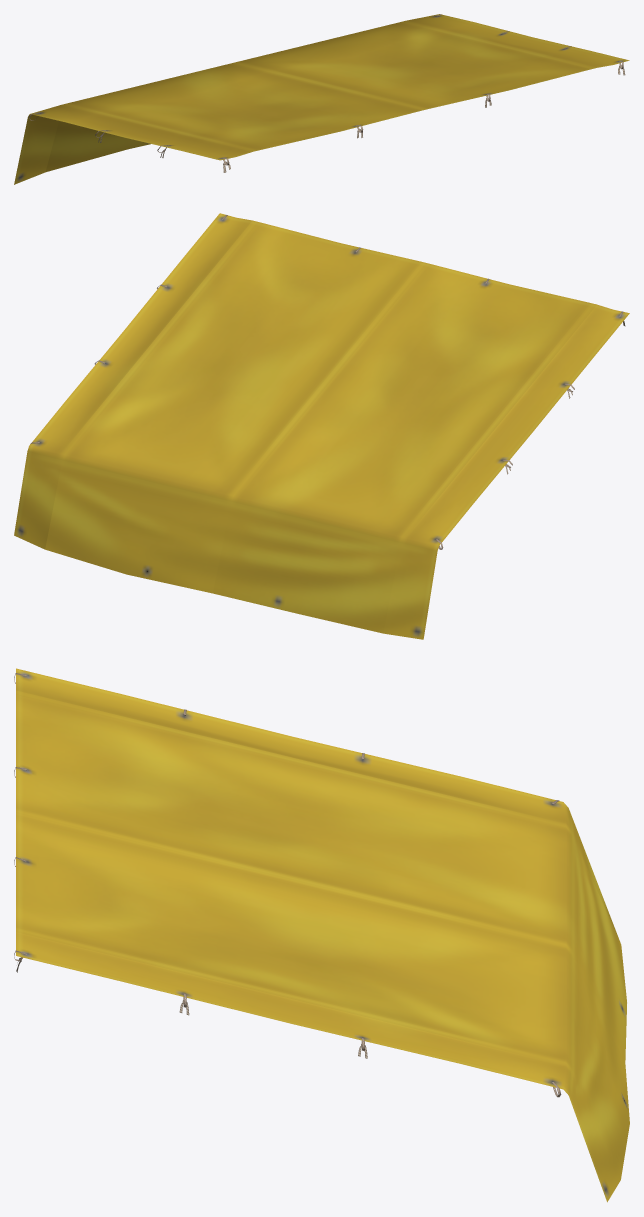
Rendered from jsf_Ceiling_s02_c05_t02.fbx.
The picture shows the model from 3 angles, top to bottom: view 1: azimuth 30°, elevation 25°; view 2: azimuth 150°, elevation 25°; view 3: azimuth 270°, elevation 25°; orthographic projection. The views are drawn at different scales.
Parts seen in each view (by area): view 1: jsf_Ceiling_s02_c05_t02; view 2: jsf_Ceiling_s02_c05_t02; view 3: jsf_Ceiling_s02_c05_t02.
Part boxes in pixels (x1,y1,x2,y2): jsf_Ceiling_s02_c05_t02: (14, 14, 629, 184); jsf_Ceiling_s02_c05_t02: (14, 213, 629, 639); jsf_Ceiling_s02_c05_t02: (14, 668, 629, 1202).
Bounding box in the file's own units: 263 × 106 × 234.
